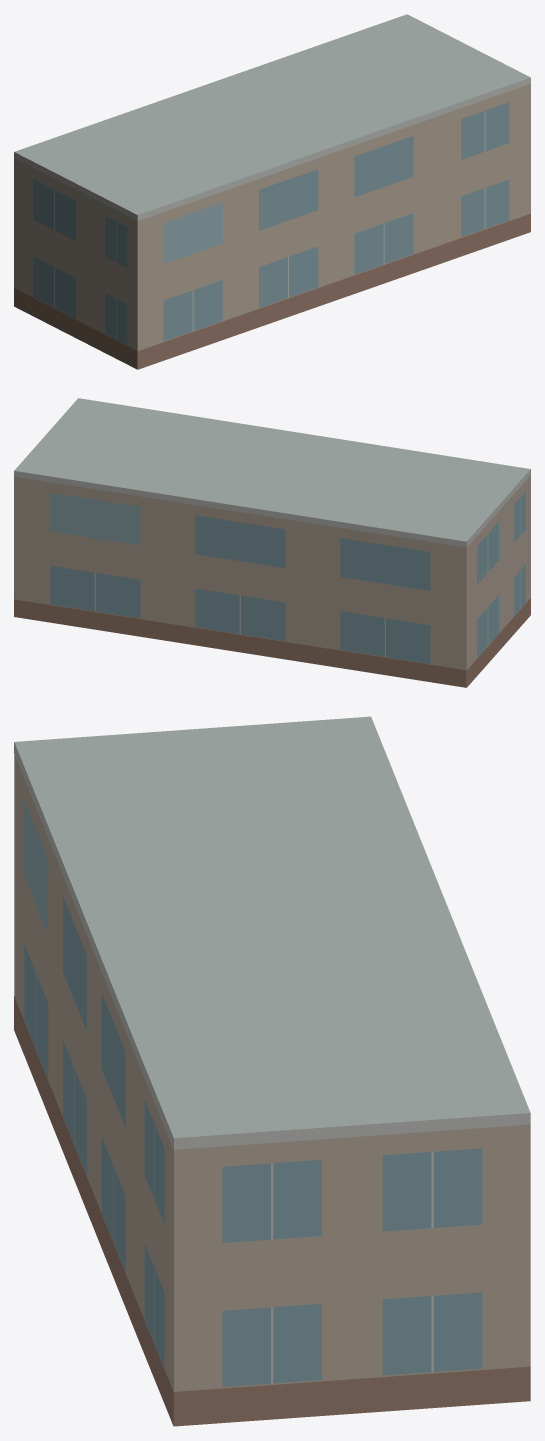
File: survey-upis-32708467.glb
The picture shows the model from 3 angles, top to bottom: view 1: azimuth 30°, elevation 25°; view 2: azimuth 150°, elevation 25°; view 3: azimuth 270°, elevation 25°; orthographic projection. The views are drawn at different scales.
Visible parts, largest first — view 1: survey-upis-32708467.tmp; view 2: survey-upis-32708467.tmp; view 3: survey-upis-32708467.tmp.
Part boxes in pixels (left/top/right/bottom): survey-upis-32708467.tmp: left=14, top=14, right=530, bottom=369; survey-upis-32708467.tmp: left=14, top=398, right=530, bottom=687; survey-upis-32708467.tmp: left=14, top=716, right=530, bottom=1426.
Size of the model in its own units: 19.16 by 6.1 by 9.92.
